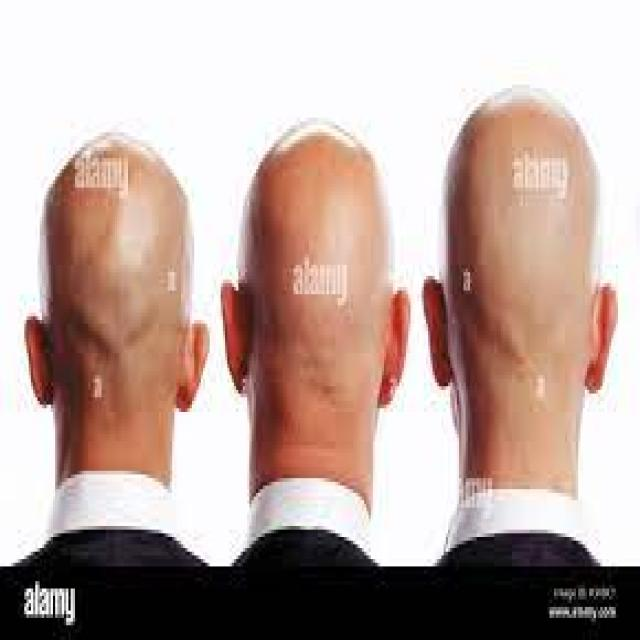Non_Helmet: (418, 69, 620, 462), (218, 99, 414, 455), (19, 106, 208, 466)
